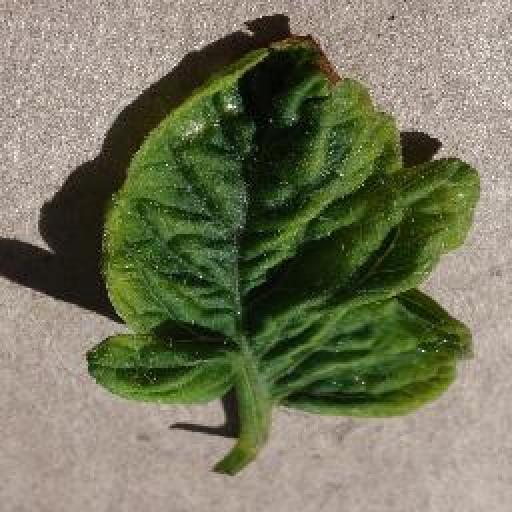Yellow Leaf Curl Virus: (80, 32, 482, 416)
